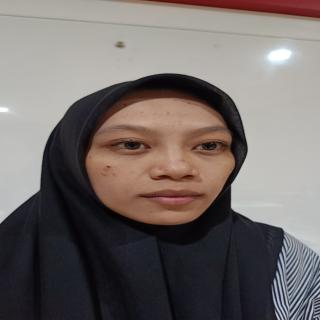Netral: (81, 85, 248, 231)
